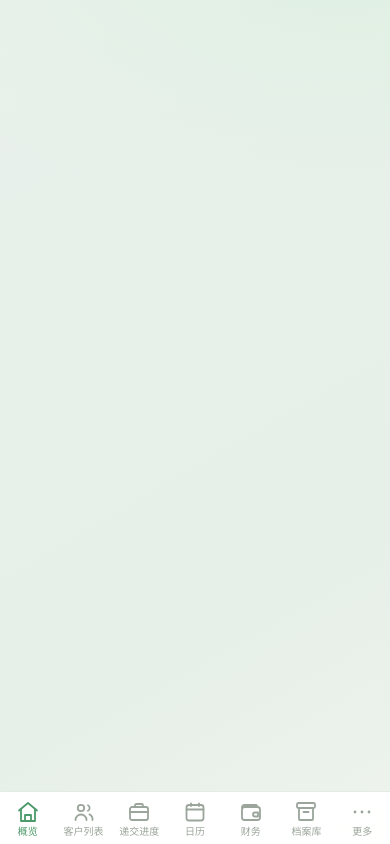
it: BottomTabBar（移动端底部导航 · 主项 + 更多溢出） › 点「更多」→ 展开溢出菜单（雇主/介绍人/所属账号）
Expected: the text "所属账号" is not shown
Click the button "更多" at point(362, 818), box [334,792,389,843]
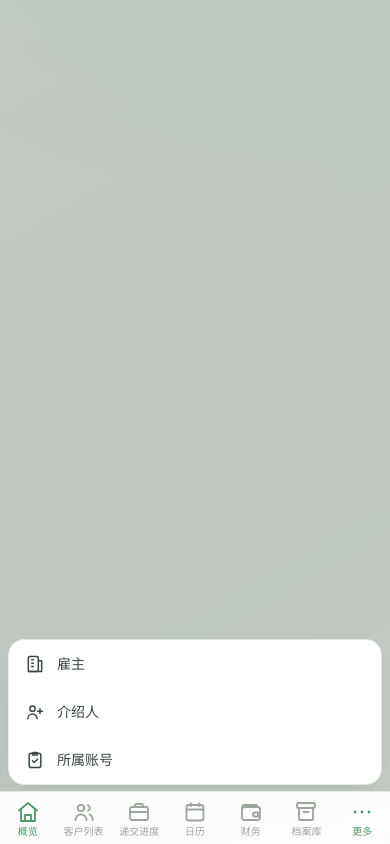
Expected: the link "所属账号" is shown, [25,750,113,770]
Expected: the link "雇主" is shown, [25,654,85,674]
Expected: the link "介绍人" is shown, [25,702,99,722]
